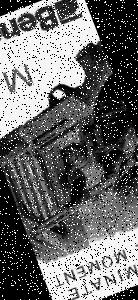shotgun: (0, 33, 115, 173), (26, 153, 137, 240)
